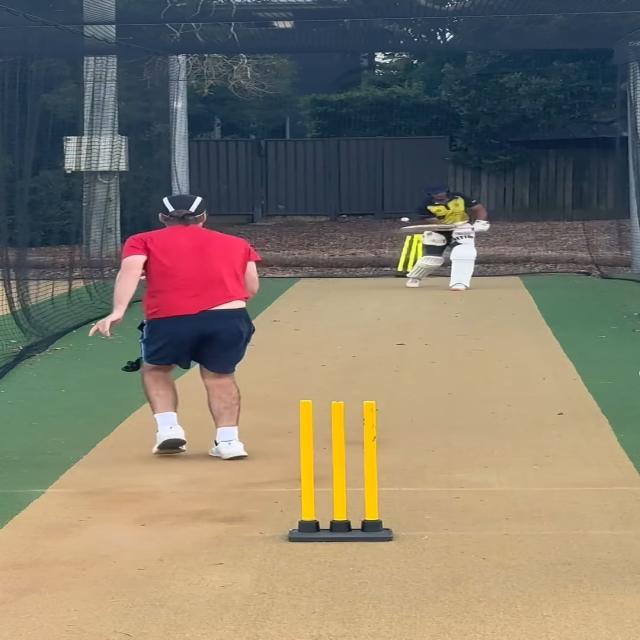stump: (284, 397, 394, 541), (394, 231, 426, 275)
